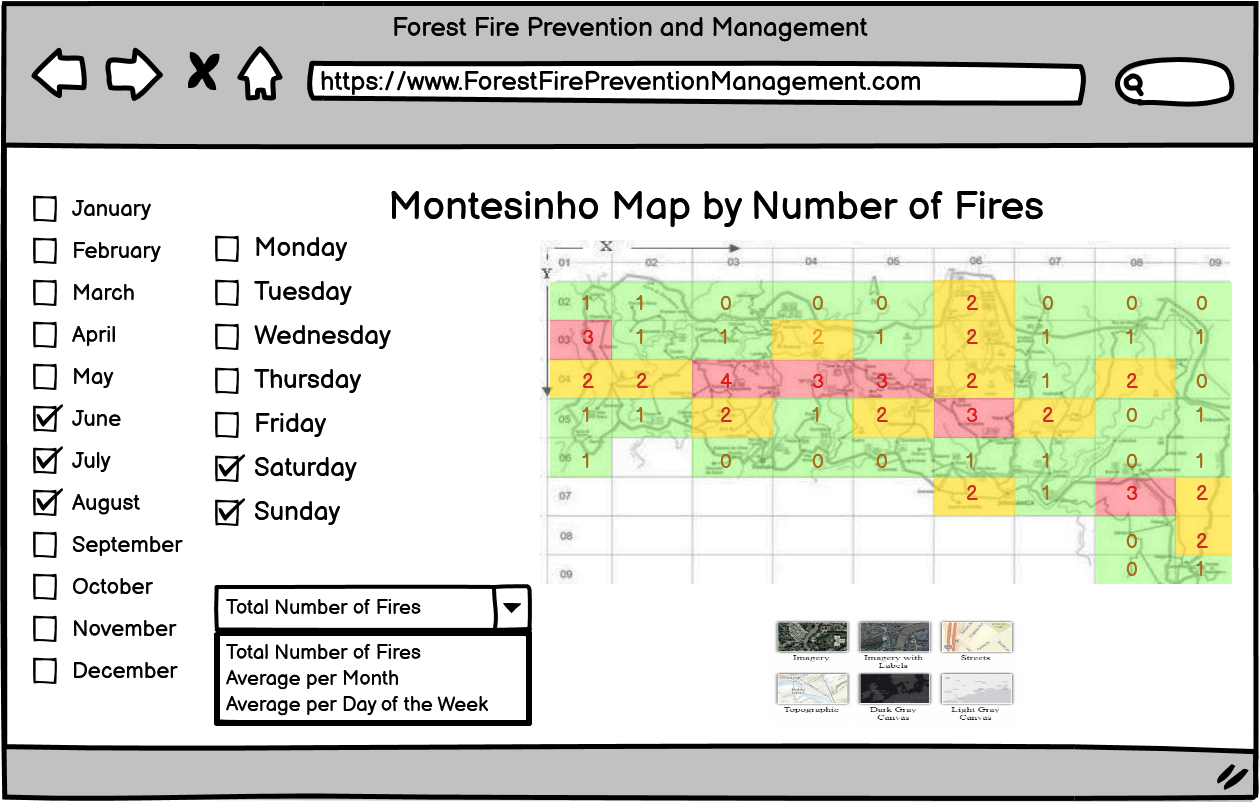

The dashboard page shown, as its layout file describes it:
{"tool":"tableau","page":{"name":"Number of Fires - Dashboard","canvas":[1000,1000],"units":"permille","ordinal":0},"visuals":[{"type":"worksheet","title":"Montesinho Map by Number of Fires","mark":"Square","rows":["location_y"],"cols":["location_x"],"box":[73.5,12.8,635.8,874.6]},{"type":"worksheet","title":"Montesinho Map by Number of Fires","mark":"Square","rows":["location_y"],"cols":["location_x"],"param":"[federated.018flwa0r0w9l21bi048g1bm1vgd].[none:day_week:nk]","box":[606.9,140.5,52.4,260.2]},{"type":"worksheet","title":"Montesinho Map by Number of Fires","mark":"Square","rows":["location_y"],"cols":["location_x"],"param":"[federated.018flwa0r0w9l21bi048g1bm1vgd].[none:weekend (time.csv):nk]","box":[670.7,148.7,96.3,97.6]},{"type":"worksheet","param":"Image/dsf.png","box":[96.3,152.2,683.9,811.9]},{"type":"worksheet","title":"Montesinho Map by Number of Fires","mark":"Square","rows":["location_y"],"cols":["location_x"],"box":[151.7,180,110.2,73.2]},{"type":"worksheet","title":"Montesinho Map by Number of Fires","mark":"Square","rows":["location_y"],"cols":["location_x"],"param":"[federated.018flwa0r0w9l21bi048g1bm1vgd].[none:locationnswe:nk]","box":[336.5,180,96.3,61.6]},{"type":"worksheet","title":"Montesinho Map by Number of Fires","mark":"Square","rows":["location_y"],"cols":["location_x"],"param":"[federated.018flwa0r0w9l21bi048g1bm1vgd].[none:month:nk]","box":[608.1,413.5,50,387.9]},{"type":"worksheet","title":"Montesinho Map by Number of Fires","mark":"Square","rows":["location_y"],"cols":["location_x"],"param":"[federated.018flwa0r0w9l21bi048g1bm1vgd].[none:season (time.csv):nk]","box":[674.9,423.9,68,173.1]},{"type":"worksheet","title":"Montesinho Map by Number of Fires","mark":"Square","rows":["location_y"],"cols":["location_x"],"param":"[federated.018flwa0r0w9l21bi048g1bm1vgd].[__tableau_internal_object_id__].[cnt:f","box":[658,728.2,85.5,66.2]}]}

Visuals, with their boxes on the dashboard's canvas, which has no fixed pixel size, in thousandths of its width and height (x1, y1, x2, y2). These are canvas units, not pixel positions in the 1260x802 screenshot, which may show the page scaled, cropped or inside an application window:
"Montesinho Map by Number of Fires" worksheet (Square marks): pyautogui.locateOnScreen(74, 13, 709, 887)
"Montesinho Map by Number of Fires" worksheet (Square marks): pyautogui.locateOnScreen(607, 140, 659, 401)
"Montesinho Map by Number of Fires" worksheet (Square marks): pyautogui.locateOnScreen(671, 149, 767, 246)
worksheet: pyautogui.locateOnScreen(96, 152, 780, 964)
"Montesinho Map by Number of Fires" worksheet (Square marks): pyautogui.locateOnScreen(152, 180, 262, 253)
"Montesinho Map by Number of Fires" worksheet (Square marks): pyautogui.locateOnScreen(336, 180, 433, 242)
"Montesinho Map by Number of Fires" worksheet (Square marks): pyautogui.locateOnScreen(608, 414, 658, 801)
"Montesinho Map by Number of Fires" worksheet (Square marks): pyautogui.locateOnScreen(675, 424, 743, 597)
"Montesinho Map by Number of Fires" worksheet (Square marks): pyautogui.locateOnScreen(658, 728, 744, 794)
